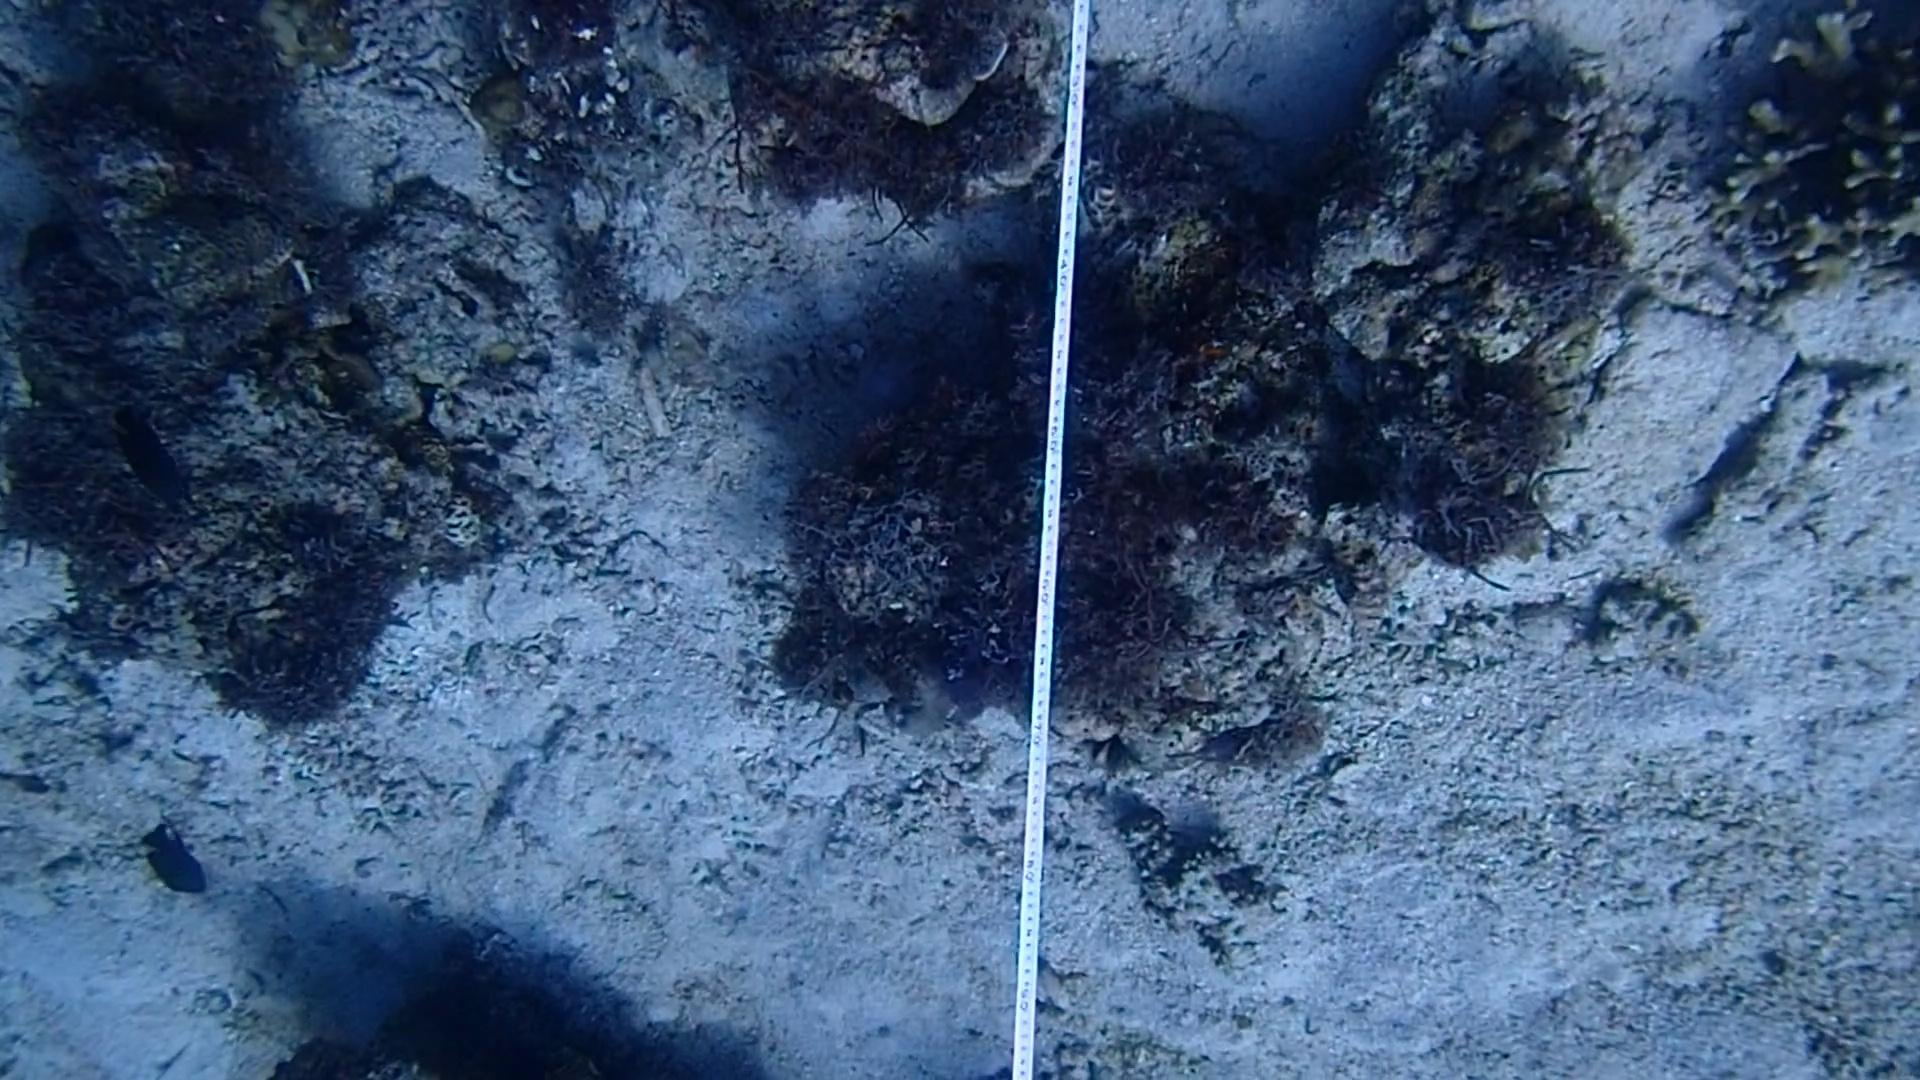Dark Fish: (104, 396, 203, 524), (141, 810, 216, 914)
